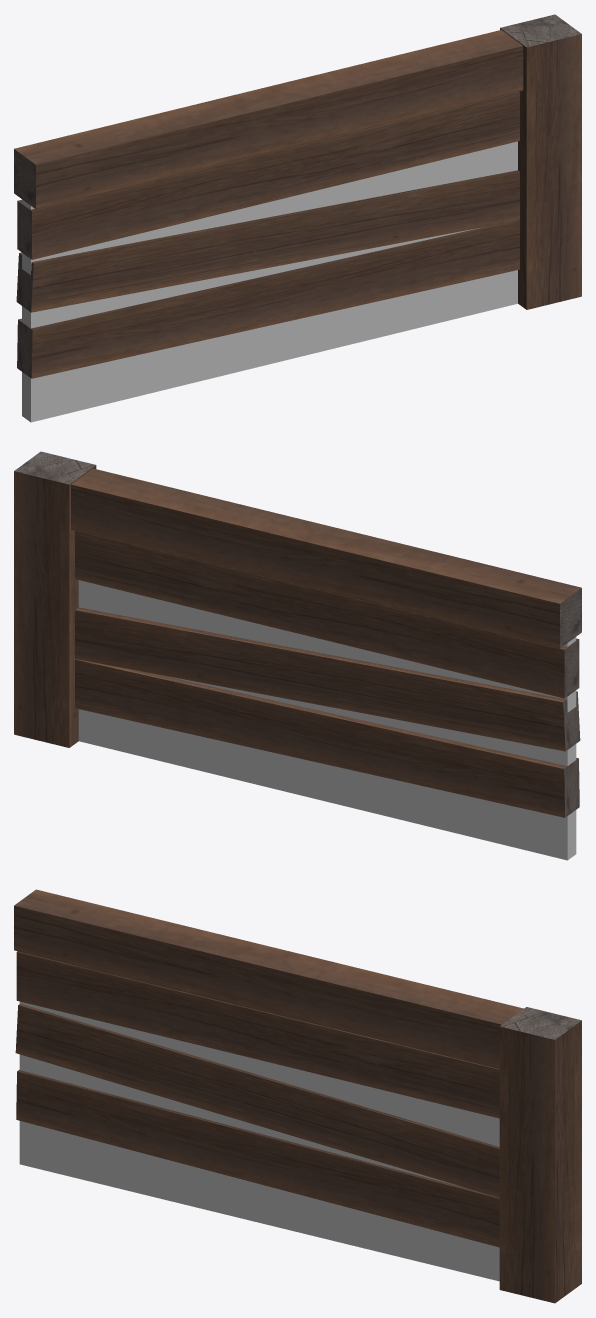
File: jov_lowwall_1t04.fbx
The picture shows the model from 3 angles, top to bottom: view 1: azimuth 30°, elevation 25°; view 2: azimuth 150°, elevation 25°; view 3: azimuth 330°, elevation 25°; orthographic projection.
Parts seen in each view (by area): view 1: jov_lowwall_1t04; view 2: jov_lowwall_1t04; view 3: jov_lowwall_1t04.
Boxes of the visible parts, box(x1,y1,x2,y2) form: jov_lowwall_1t04: box(14, 14, 581, 422); jov_lowwall_1t04: box(14, 451, 581, 860); jov_lowwall_1t04: box(14, 889, 581, 1303).
Size of the model in its own units: 218 by 100 by 18.59.
